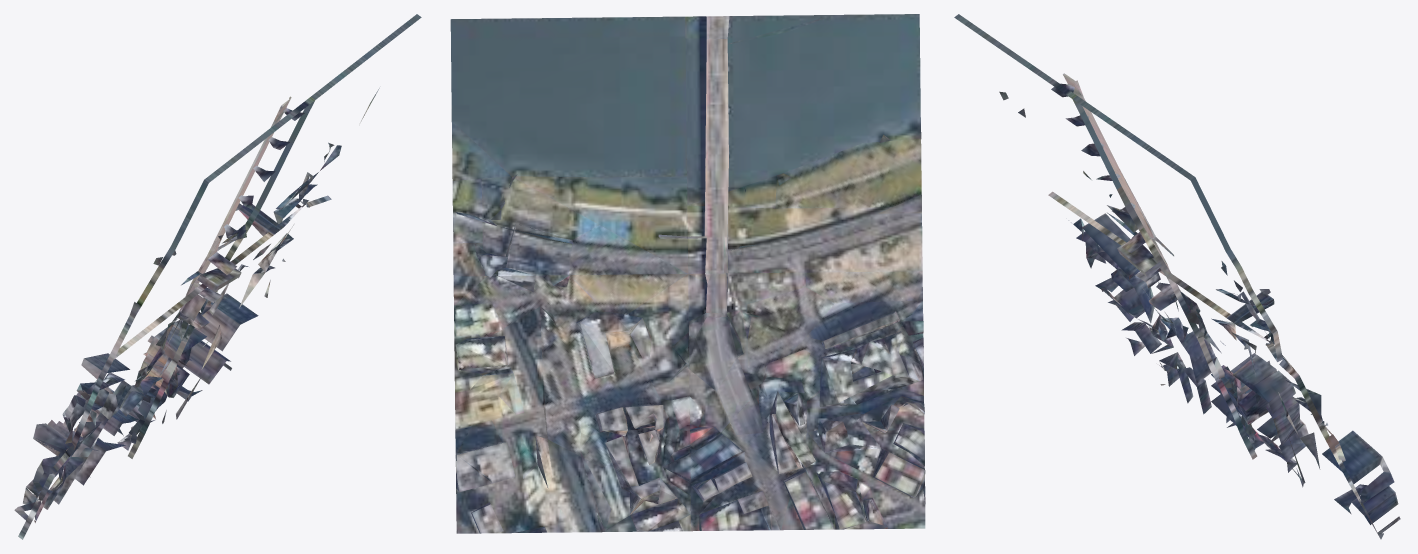
3 renders of one model, left to right at view 1: azimuth 30°, elevation 25°; view 2: azimuth 150°, elevation 25°; view 3: azimuth 270°, elevation 25°, orthographic. The views are drawn at different scales.
Size of the model in its own units: 617 by 563 by 551.
2 materials, 2 textured.
